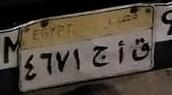1: (72, 46, 82, 71)
4: (24, 52, 37, 82)
6: (40, 52, 53, 75)
7: (55, 50, 70, 72)
alif: (116, 39, 126, 67)
jeem: (92, 45, 111, 68)
qaaf: (131, 37, 151, 61)
